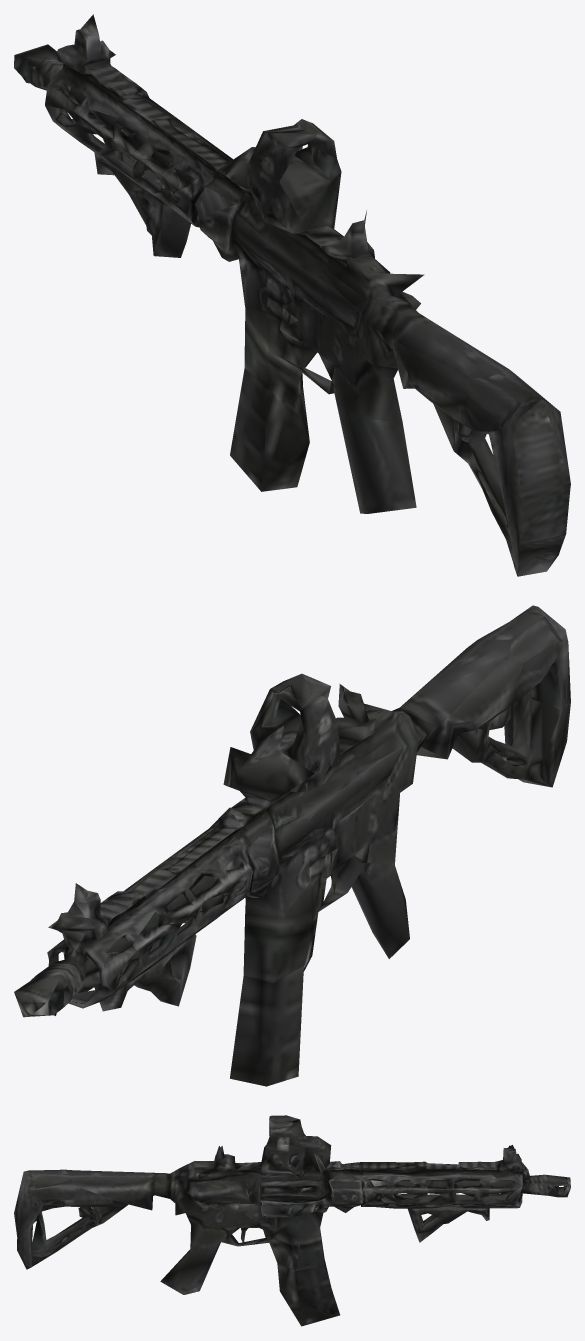
The model's file is rifle_lod.glb.
The picture shows the model from 3 angles, top to bottom: view 1: azimuth 30°, elevation 25°; view 2: azimuth 150°, elevation 25°; view 3: azimuth 270°, elevation 25°; orthographic projection. The views are drawn at different scales.
Visible parts, largest first — view 1: tripo_node_c9c9d04c-0066-42ef-8853-87e0a01623ff; view 2: tripo_node_c9c9d04c-0066-42ef-8853-87e0a01623ff; view 3: tripo_node_c9c9d04c-0066-42ef-8853-87e0a01623ff.
Part boxes in pixels (<box>): tripo_node_c9c9d04c-0066-42ef-8853-87e0a01623ff: <box>14,14,570,576</box>; tripo_node_c9c9d04c-0066-42ef-8853-87e0a01623ff: <box>14,605,570,1086</box>; tripo_node_c9c9d04c-0066-42ef-8853-87e0a01623ff: <box>14,1115,570,1326</box>.
Bounding box in the file's own units: 0.1055 × 0.3934 × 0.9756.
1 material, 1 textured.
